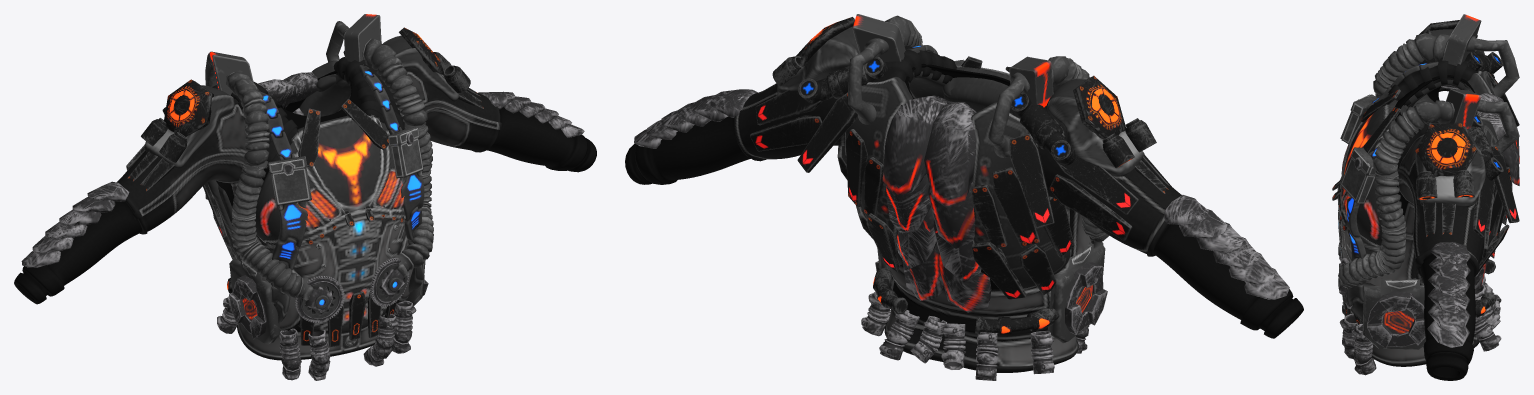
Rendered from sci-fi_armor_clothing.glb.
3 renders of one model, left to right at view 1: azimuth 30°, elevation 25°; view 2: azimuth 150°, elevation 25°; view 3: azimuth 270°, elevation 25°, orthographic. The views are drawn at different scales.
Visible parts, largest first — view 1: Cloth, Cloth1_1, Cloth1; view 2: Cloth1_1, Cloth, Cloth1; view 3: Cloth1_1, Cloth, Cloth1.
Part boxes in pixels (box(x1,y1,x2,y2)): Cloth: box(14, 35, 596, 360); Cloth1_1: box(21, 14, 584, 380); Cloth1: box(126, 27, 483, 346); Cloth1_1: box(634, 14, 1289, 380); Cloth: box(625, 26, 1303, 372); Cloth1: box(750, 17, 1171, 335); Cloth1_1: box(1338, 14, 1519, 375); Cloth: box(1337, 29, 1503, 380); Cloth1: box(1332, 20, 1519, 324).
Bounding box in the file's own units: 1.31 × 0.6562 × 0.3728.
3 materials, 3 textured.
